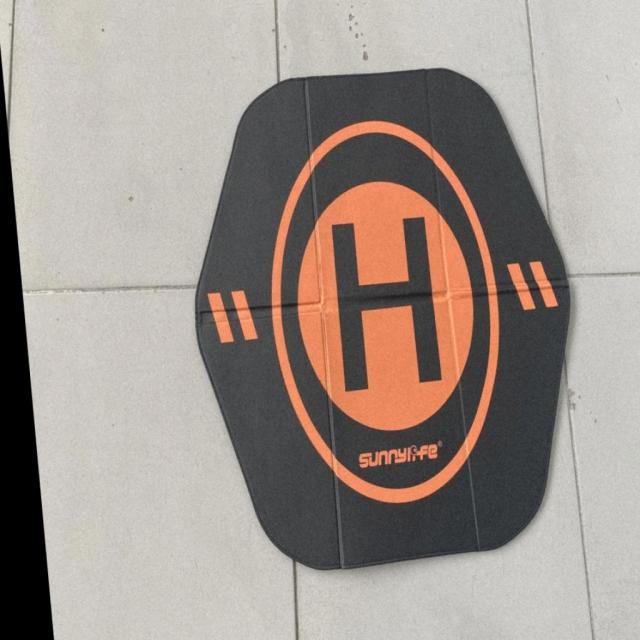helipad: (266, 114, 506, 508)
